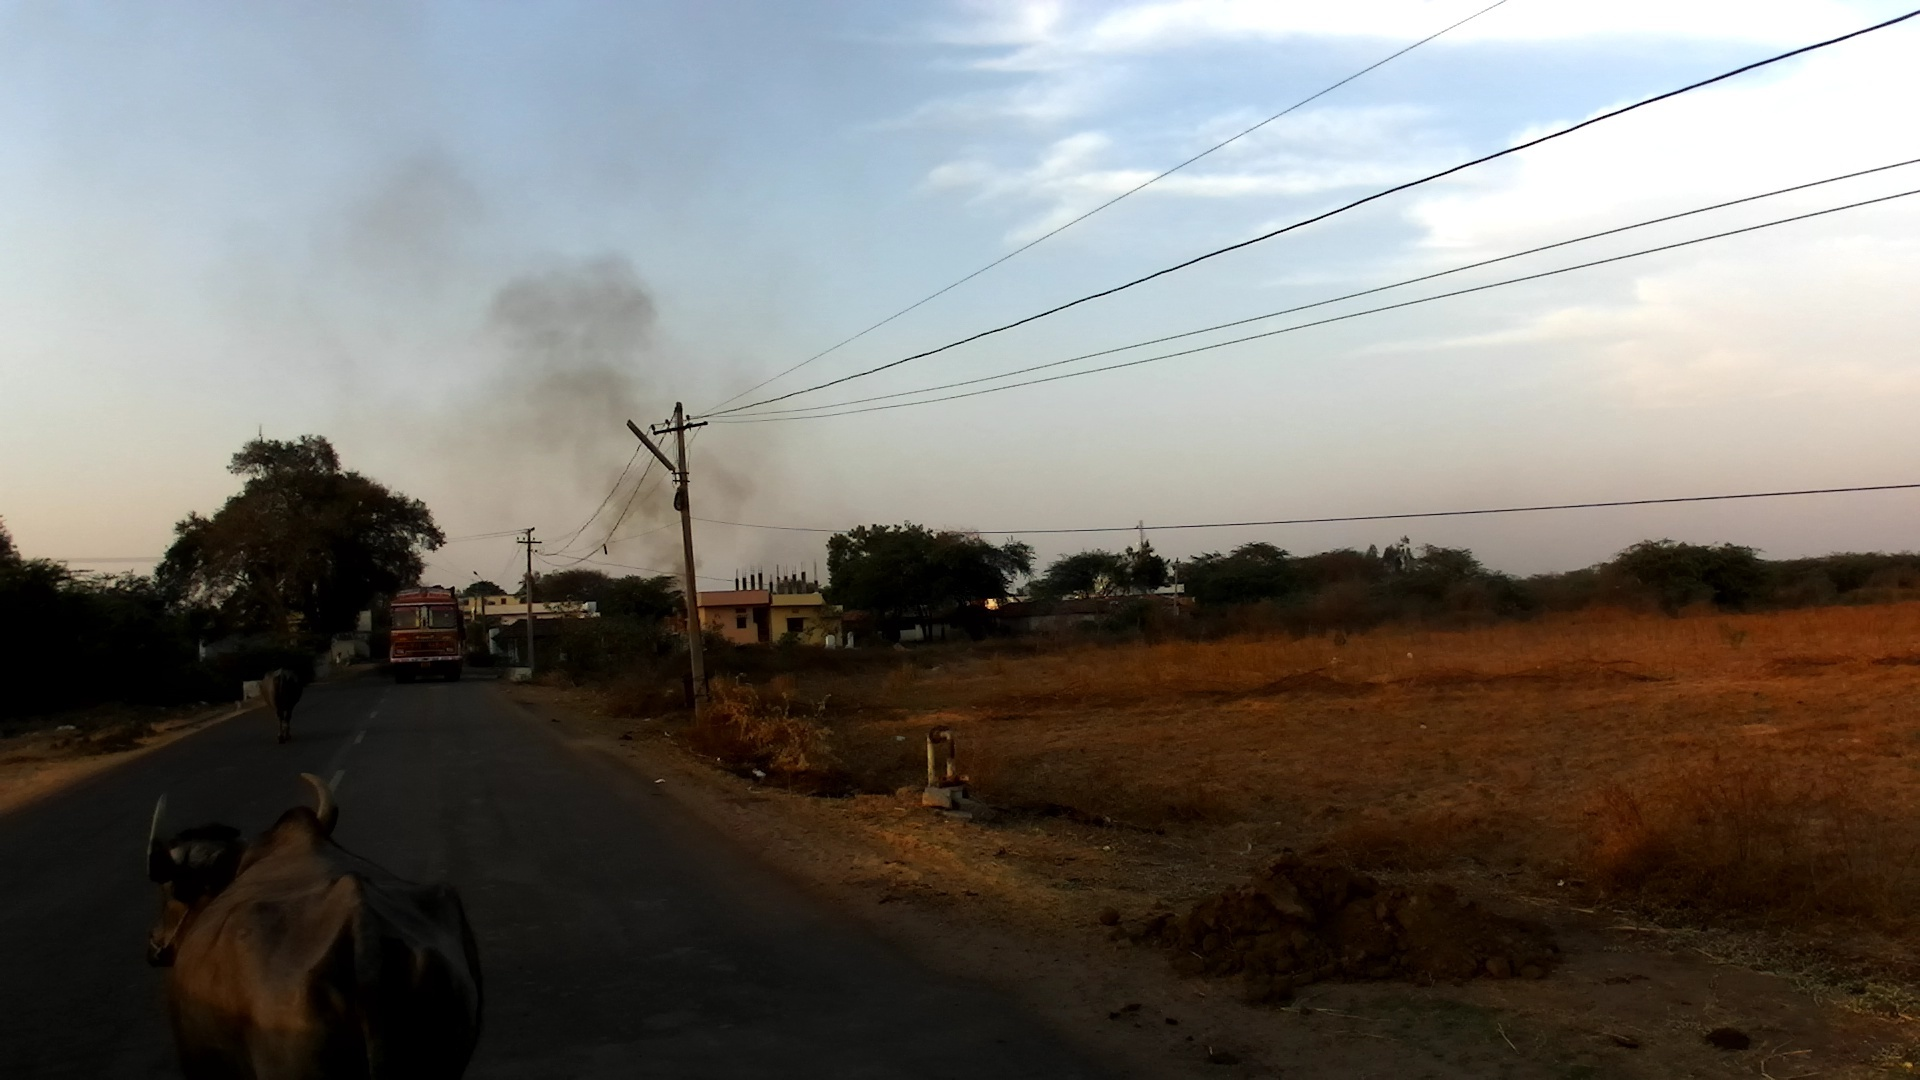animal: (142, 767, 485, 1077), (256, 667, 313, 741)
truck: (382, 583, 468, 683)
